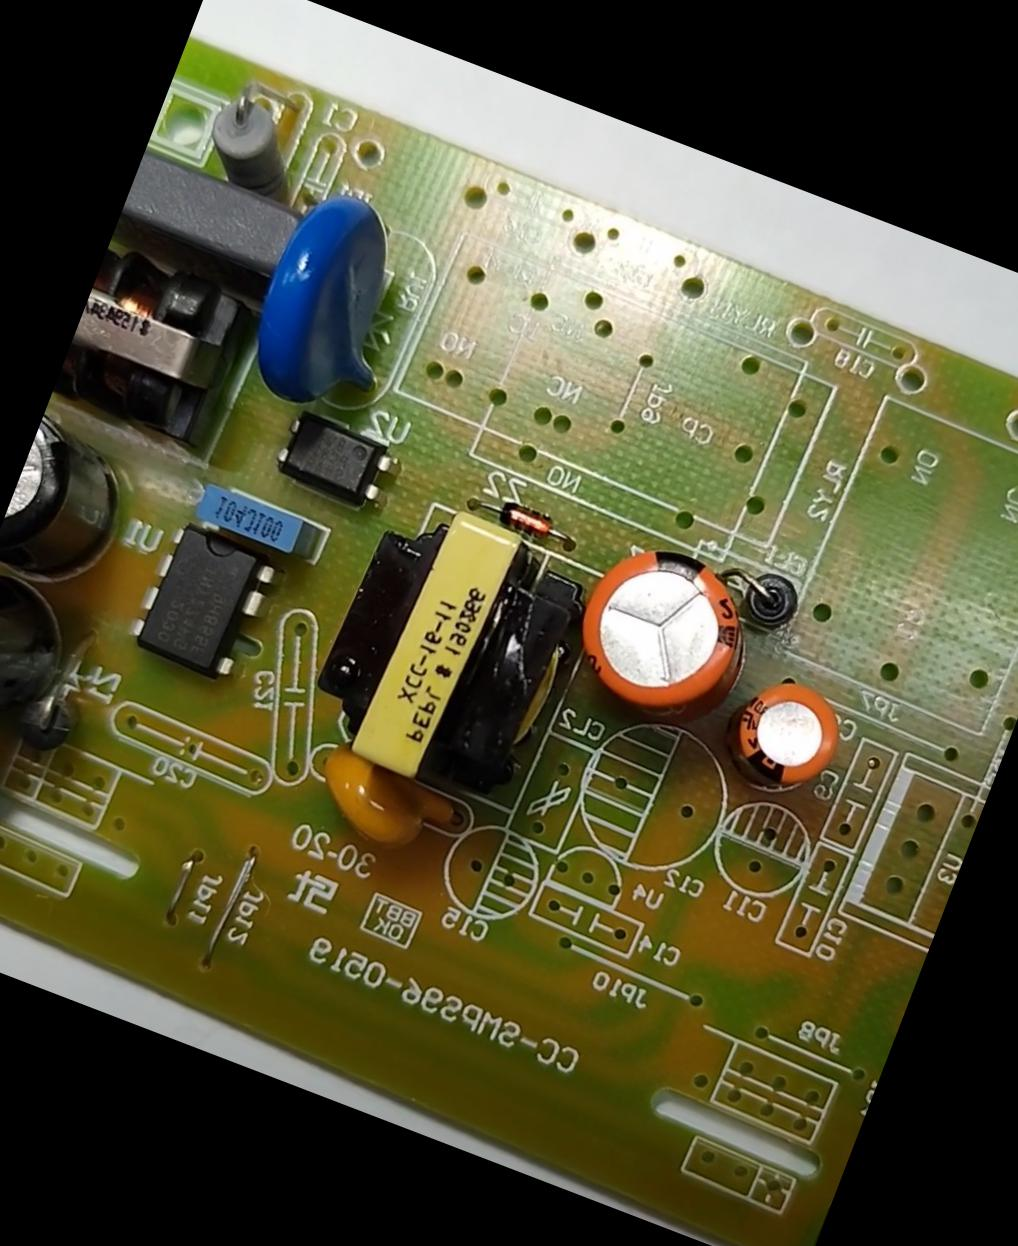Cap1: (555, 522, 762, 731)
Cap2: (715, 663, 857, 804)
Cap3: (0, 404, 146, 601)
Cap4: (0, 565, 100, 783)
MOSFET: (120, 513, 288, 694)
Mov: (218, 165, 426, 433)
Resistor: (191, 82, 324, 202)
Transformer: (292, 479, 592, 824), (50, 227, 267, 456)
